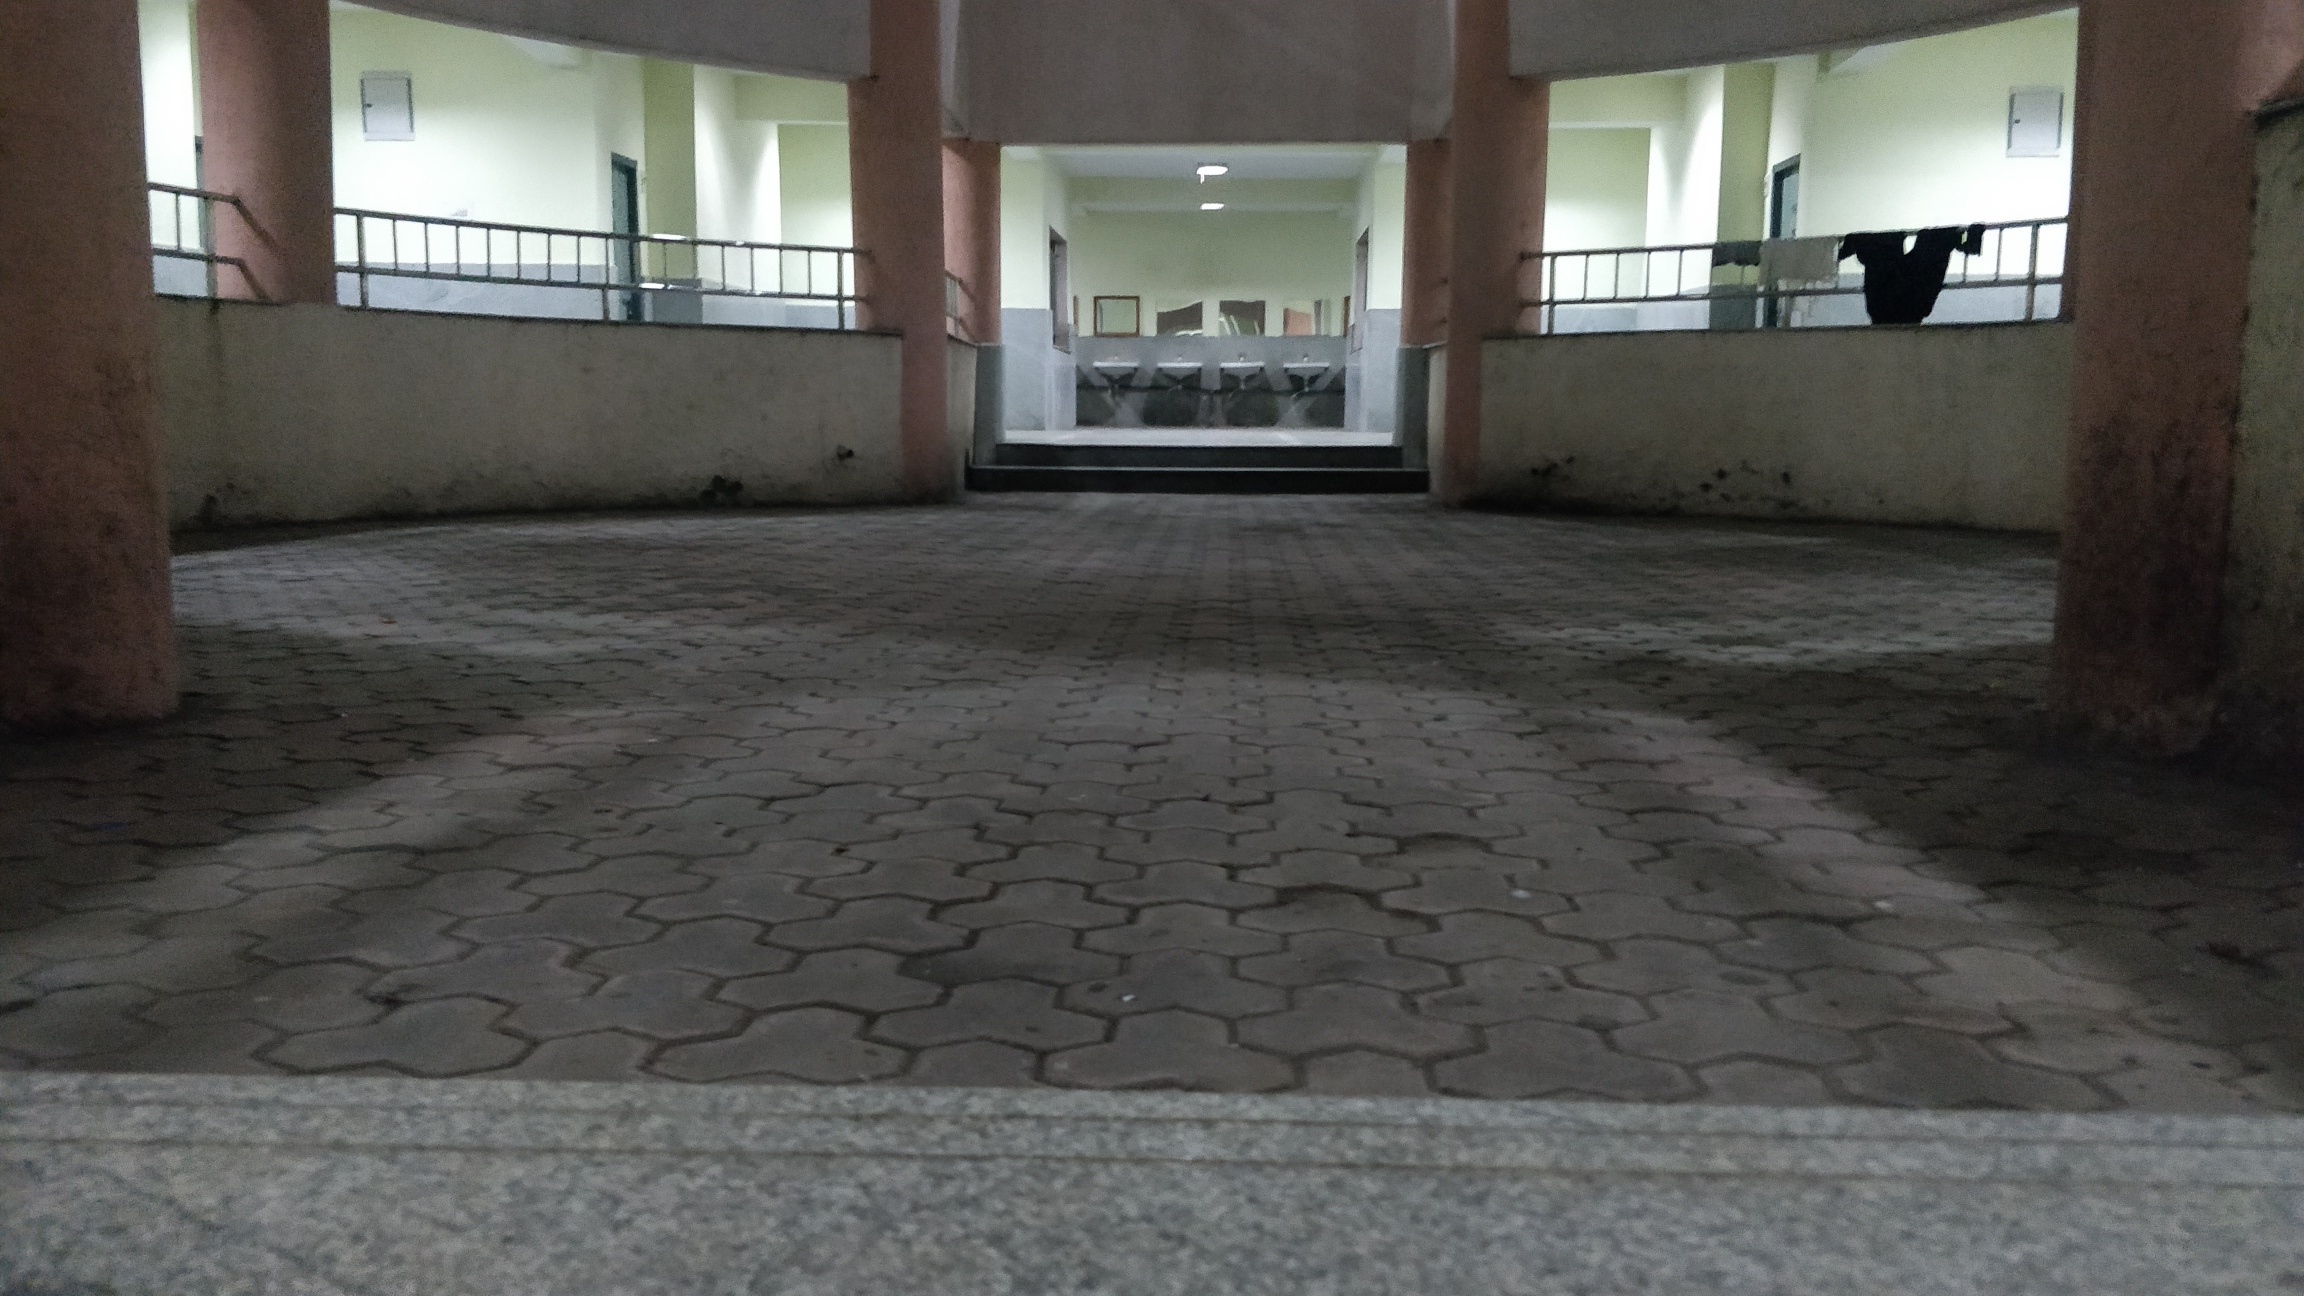stairs_up: (967, 429, 1427, 502)
